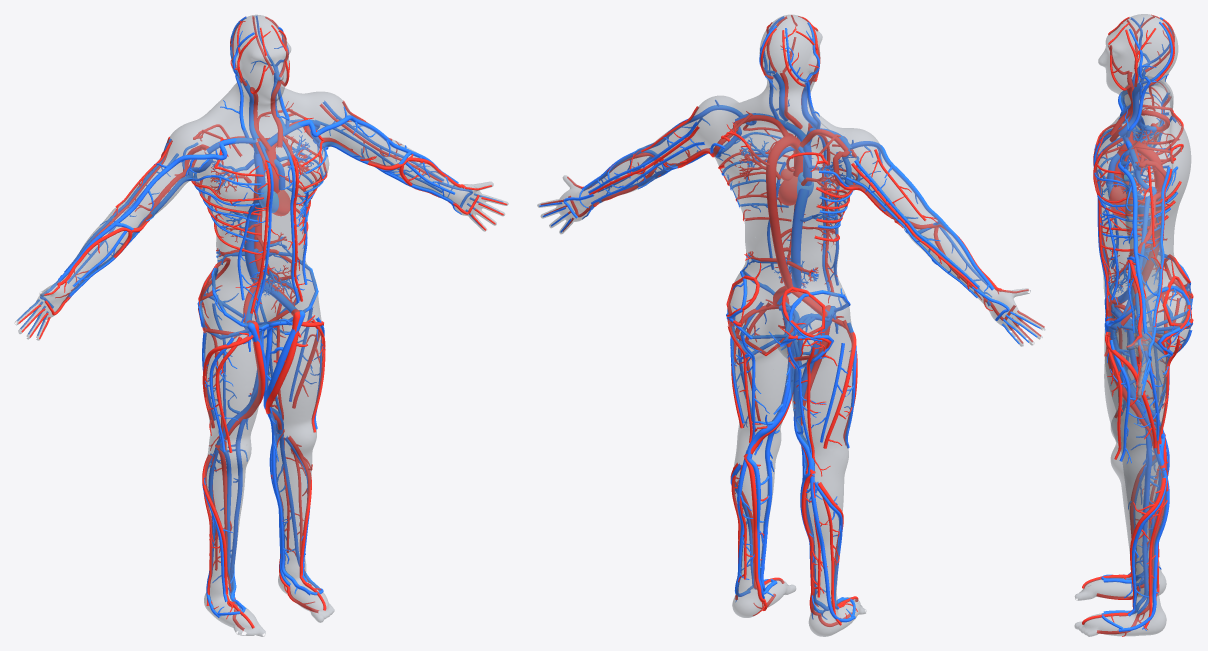
File: circulatory.glb
3 views of the same model, side by side, from view 1: azimuth 30°, elevation 25°; view 2: azimuth 150°, elevation 25°; view 3: azimuth 270°, elevation 25° (orthographic). The views are drawn at different scales.
Visible parts, largest first — view 1: Body, Veins, Arteries; view 2: Body, Veins, Arteries; view 3: Body, Veins, Arteries, HeartLeft.
Part boxes in pixels (x1,y1,x2,y2): Body: (14,14,508,636); Veins: (17,15,502,617); Arteries: (18,16,507,630); Body: (537,14,1045,636); Veins: (539,16,1040,622); Arteries: (540,15,1044,626); Body: (1074,14,1191,636); Veins: (1093,17,1192,631); Arteries: (1082,14,1193,636); HeartLeft: (1109,181,1132,218).
Bounding box in the file's own units: 1.56 × 1.79 × 0.3211.
